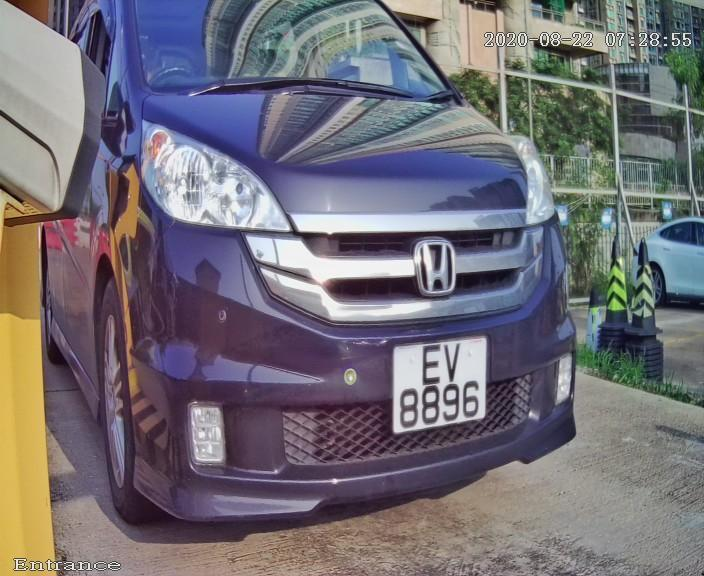License Plate: (387, 327, 491, 443)
